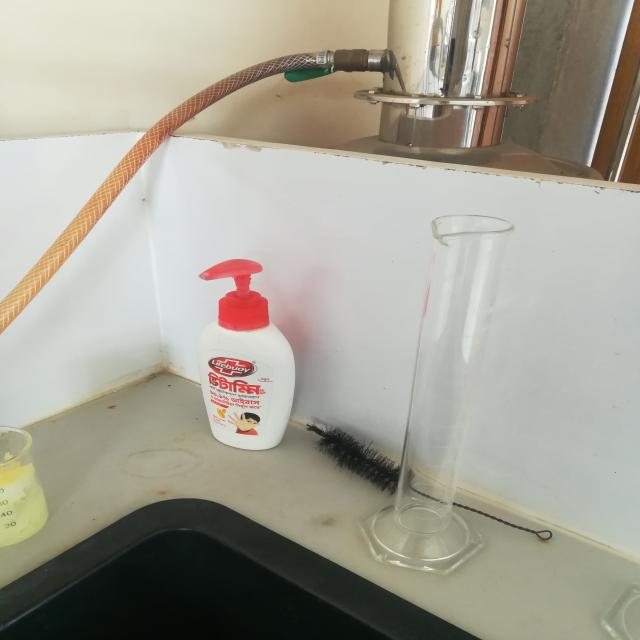Measuring_Cylinder: (346, 174, 534, 596)
